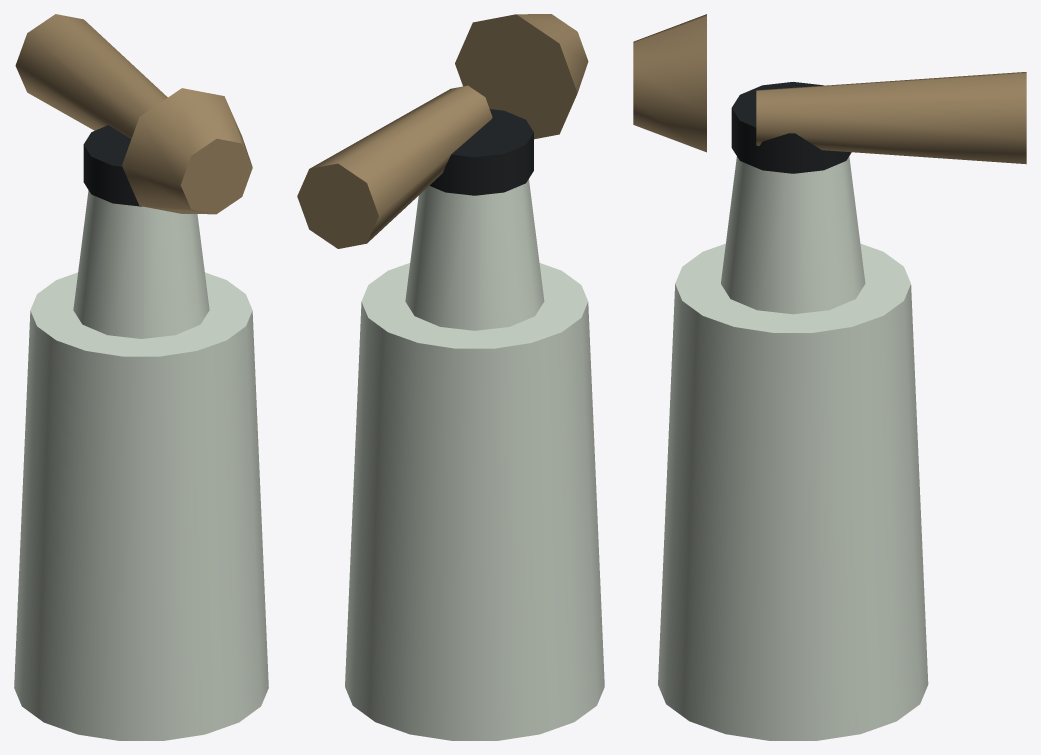
File: molotov.glb
3 views of the same model, side by side, from view 1: azimuth 30°, elevation 25°; view 2: azimuth 150°, elevation 25°; view 3: azimuth 270°, elevation 25° (orthographic). The views are drawn at different scales.
Visible parts, largest first — view 1: molotov; view 2: molotov; view 3: molotov.
Part boxes in pixels (x1=…): molotov: x1=14, y1=14, x2=268, y2=740; molotov: x1=297, y1=14, x2=604, y2=740; molotov: x1=633, y1=14, x2=1026, y2=740.
Size of the model in its own units: 0.1083 by 0.3 by 0.16.
